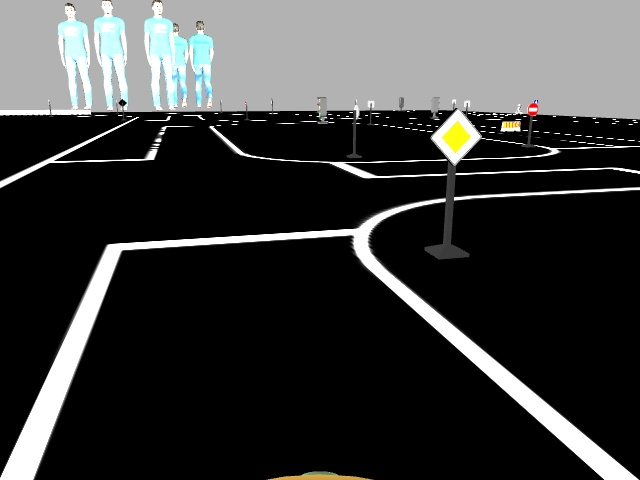Priority: (429, 105, 481, 164)
